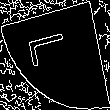L_E: (31, 34, 79, 76)
